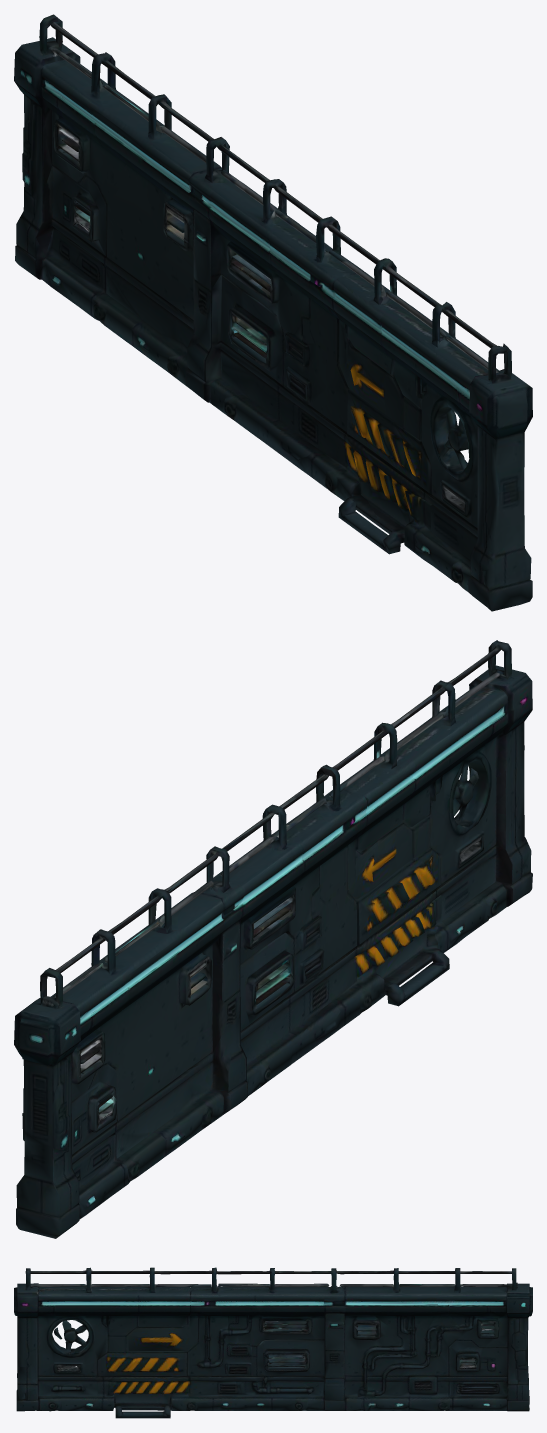
Rendered from WallZone2.fbx.
3 renders of one model, top to bottom at view 1: azimuth 30°, elevation 25°; view 2: azimuth 150°, elevation 25°; view 3: azimuth 270°, elevation 25°, orthographic. The views are drawn at different scales.
Visible parts, largest first — view 1: tripo_node_dd70b7f9; view 2: tripo_node_dd70b7f9; view 3: tripo_node_dd70b7f9.
Boxes of the visible parts, left/top/right/bottom form: tripo_node_dd70b7f9: left=14, top=14, right=532, bottom=611; tripo_node_dd70b7f9: left=14, top=640, right=532, bottom=1238; tripo_node_dd70b7f9: left=14, top=1267, right=532, bottom=1418.
Size of the model in its own units: 0.0736 by 0.3018 by 0.9994.
Materials: 1 (1 with a texture image).
